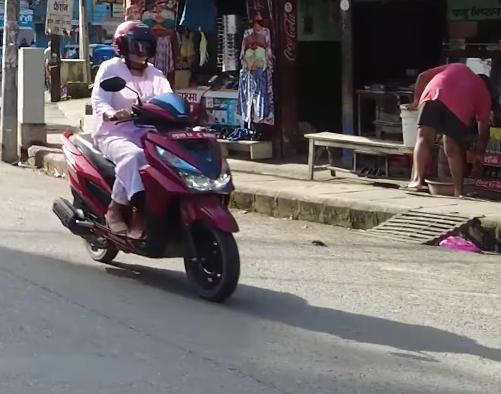scooter: (44, 68, 255, 312)
